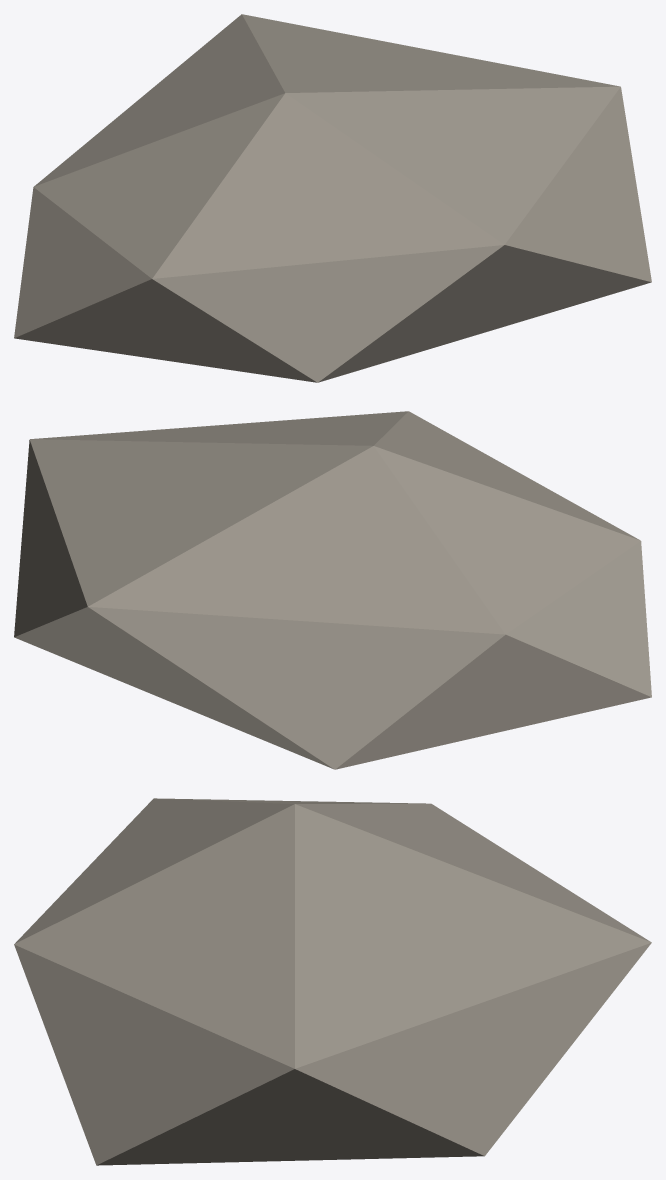
File: HS_LP_Rock_Flat_01.fbx
The picture shows the model from 3 angles, top to bottom: view 1: azimuth 30°, elevation 25°; view 2: azimuth 150°, elevation 25°; view 3: azimuth 270°, elevation 25°; orthographic projection. The views are drawn at different scales.
Parts seen in each view (by area): view 1: HS_LP_Rock_Flat_01; view 2: HS_LP_Rock_Flat_01; view 3: HS_LP_Rock_Flat_01.
Part boxes in pixels (x1,y1,x2,y2): HS_LP_Rock_Flat_01: [14, 14, 651, 382]; HS_LP_Rock_Flat_01: [14, 411, 651, 769]; HS_LP_Rock_Flat_01: [14, 798, 651, 1165].
Bounding box in the file's own units: 127 × 41.51 × 104.
